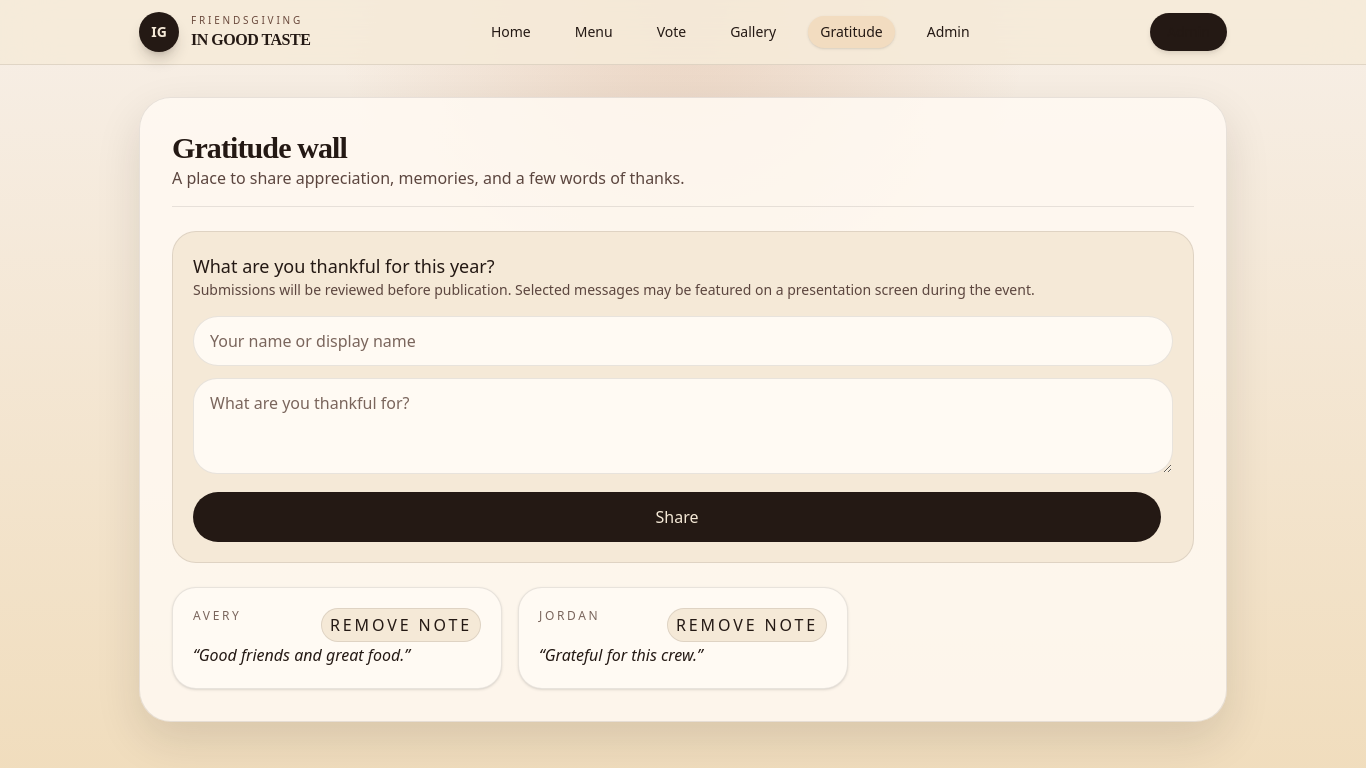
Friendsgiving app › lets guests remove a note from the gratitude wall
Click the button "Remove note" next to "Avery" at point(401, 625), box [321,608,481,642]
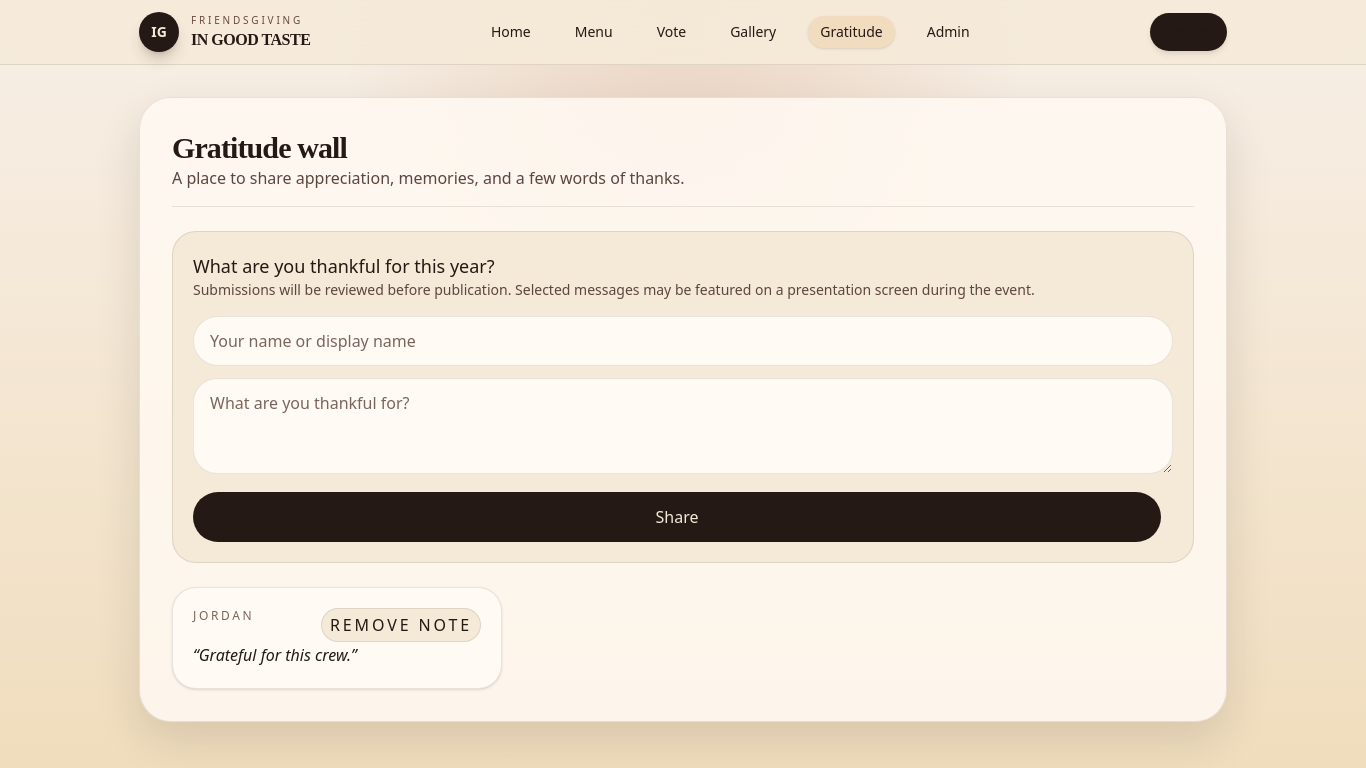
Result: the text "Good friends and great food." is gone
